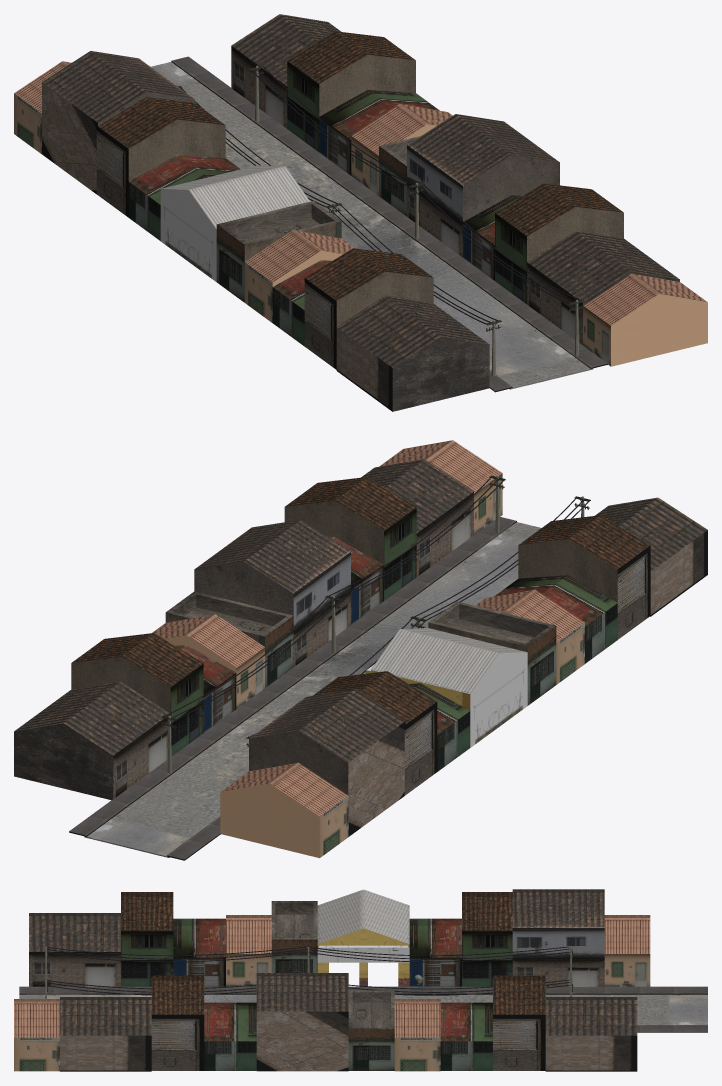
The model's file is rua_bar.glb.
3 renders of one model, top to bottom at view 1: azimuth 30°, elevation 25°; view 2: azimuth 150°, elevation 25°; view 3: azimuth 270°, elevation 25°, orthographic. The views are drawn at different scales.
Visible parts, largest first — view 1: rua, casa_1, casa_18, casa_6, casa_15, casa_5, casa_14, bar, calçada, casa_2, casa_19, casa_11 (+12 smaller); view 2: rua, casa_16, casa_6, casa_18, bar, casa_9, casa_2, calçada, casa_11, casa_14, casa_1, casa_19 (+12 smaller); view 3: casa_18, casa_6, casa_16, casa_19, bar, casa_1, casa_11, casa_14, casa_2, casa_5, calçada, rua (+12 smaller).
Part boxes in pixels (x1,y1,x2,y2): rua: (151,62,593,389); casa_1: (336,295,489,411); casa_18: (407,114,559,257); casa_6: (42,51,194,193); casa_15: (583,273,707,366); casa_5: (96,97,225,217); casa_14: (287,31,415,151); bar: (160,165,310,281); calçada: (171,56,607,392); casa_2: (304,248,433,369); casa_19: (527,230,679,345); casa_11: (495,183,623,304); rua: (84,522,541,857); casa_16: (14,681,170,800); casa_6: (249,689,405,836); casa_18: (194,519,350,666); bar: (365,628,527,747); casa_9: (220,762,348,858); casa_2: (518,515,650,639); calçada: (69,517,516,860); casa_11: (284,477,416,600); casa_14: (71,633,203,755); casa_1: (595,497,707,616); casa_19: (361,459,473,576); casa_18: (256,973,348,1071); casa_6: (512,889,604,986); casa_16: (545,997,637,1071); casa_19: (60,997,151,1071); bar: (317,889,409,986); casa_1: (29,913,120,986); casa_11: (151,975,204,1070); casa_14: (493,975,545,1070); casa_2: (121,892,173,986); casa_5: (462,892,512,986); calçada: (19,986,707,1032); rua: (19,994,707,1024).
Bounding box in the file's own units: 44.22 × 12.86 × 106.
11 materials, 9 textured.
